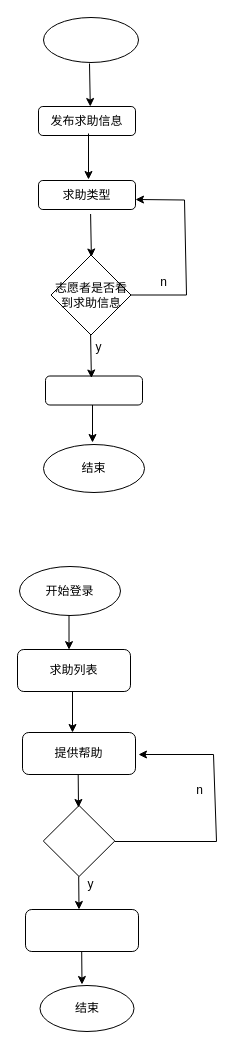
The diagram is 242 pixels wide and 1049 high, and some of its shapes have lost their labels. The centre of each missing label's shape, as x and y in pixels:
"前往求助地方" belongs at (93,390).
"是否解决问题" belongs at (78,840).
"登录" belongs at (90,39).
"问题已解决" belongs at (81,930).
